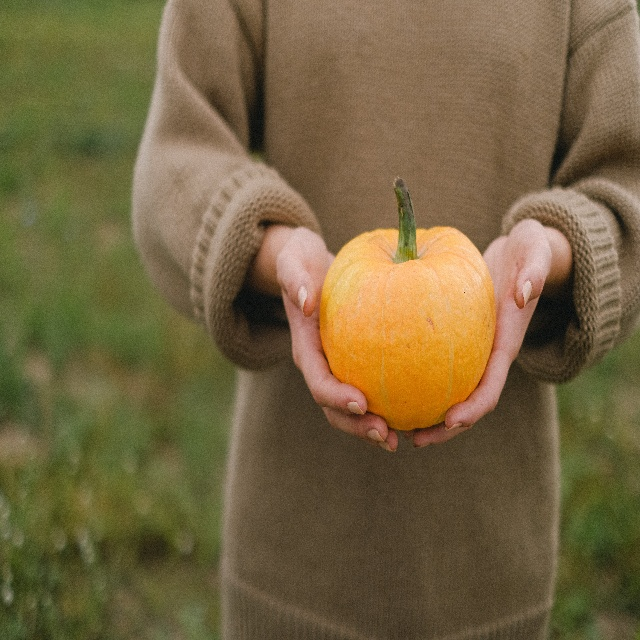Sin_guantes: (400, 216, 552, 451), (276, 220, 400, 454)
